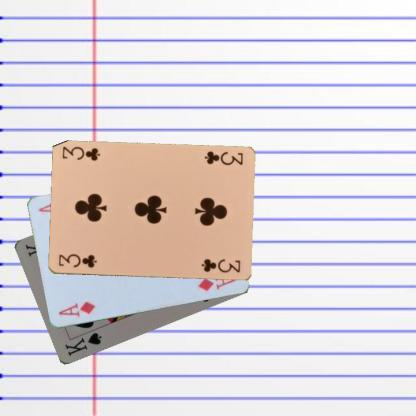3c: (56, 252, 98, 270), (202, 148, 244, 166)
Ad: (56, 299, 96, 318)
Ks: (62, 330, 103, 358)
